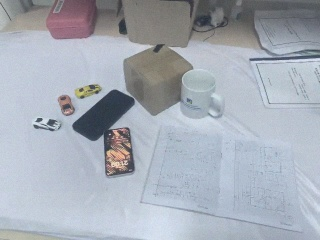box: (123, 43, 194, 117), (119, 1, 196, 48)
cup: (178, 69, 226, 120)
phone: (72, 86, 136, 142), (103, 127, 134, 177)
toy_car: (32, 116, 62, 131), (74, 84, 101, 98), (58, 95, 75, 116)
